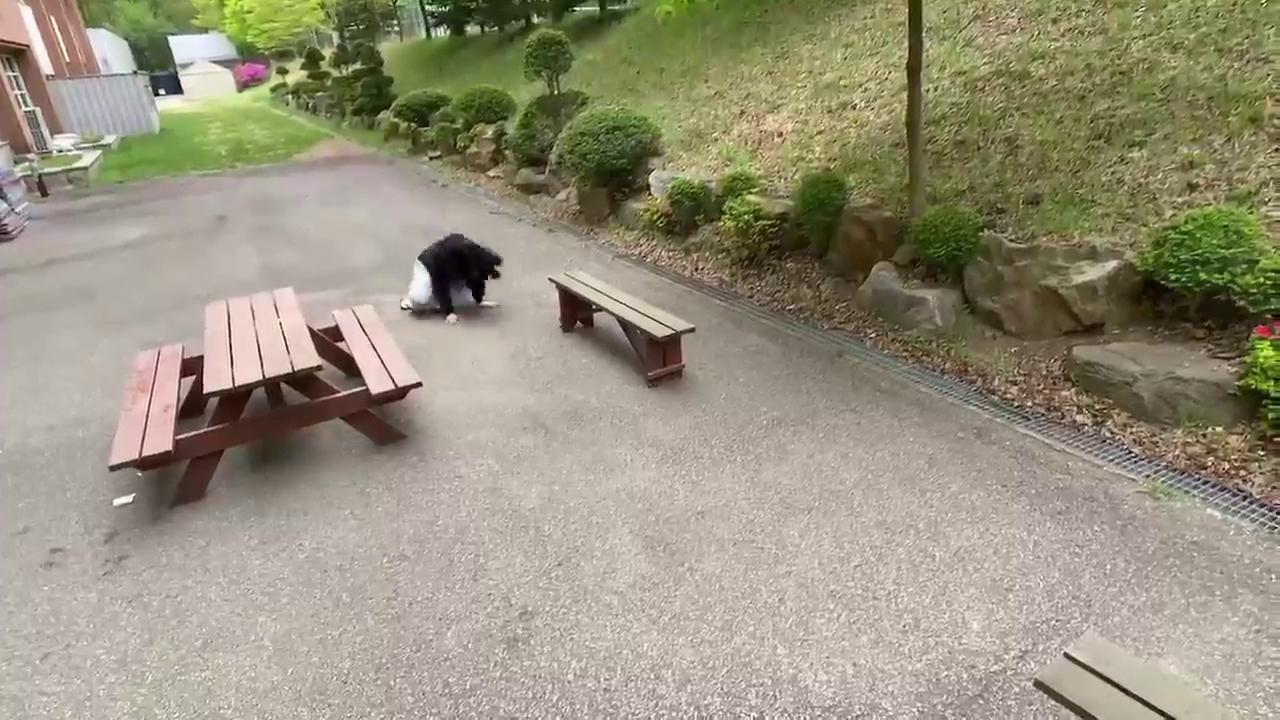fall_down: (396, 232, 508, 326)
